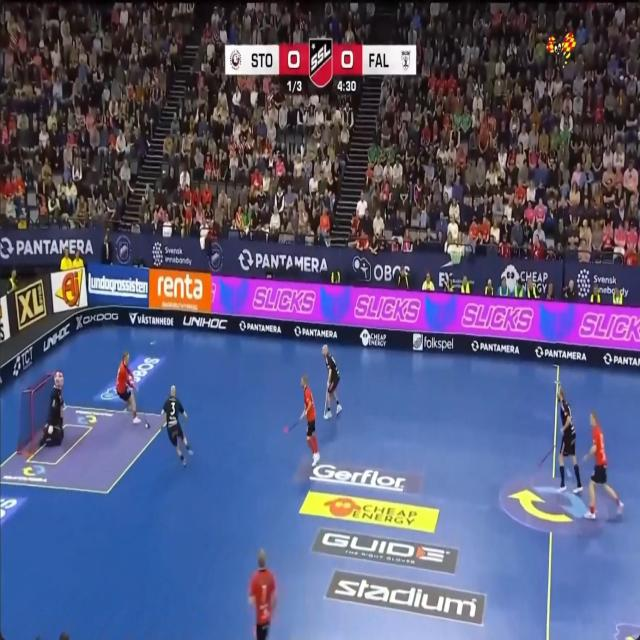player: (584, 412, 623, 518), (557, 387, 582, 493), (248, 549, 275, 639), (162, 385, 192, 466), (39, 371, 64, 446), (300, 375, 320, 466), (117, 352, 140, 422), (322, 345, 342, 417)
stick: (134, 388, 149, 428), (283, 418, 300, 432), (538, 449, 552, 466), (323, 387, 328, 416), (552, 445, 554, 450)
